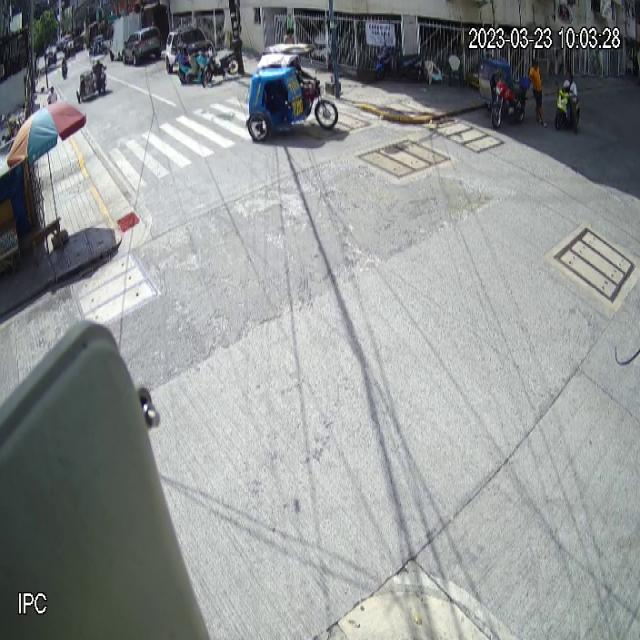Motorcycle: (554, 87, 573, 131)
Tricycle: (246, 42, 338, 142), (477, 56, 532, 130)
